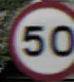Speed limit: (10, 2, 71, 71)
